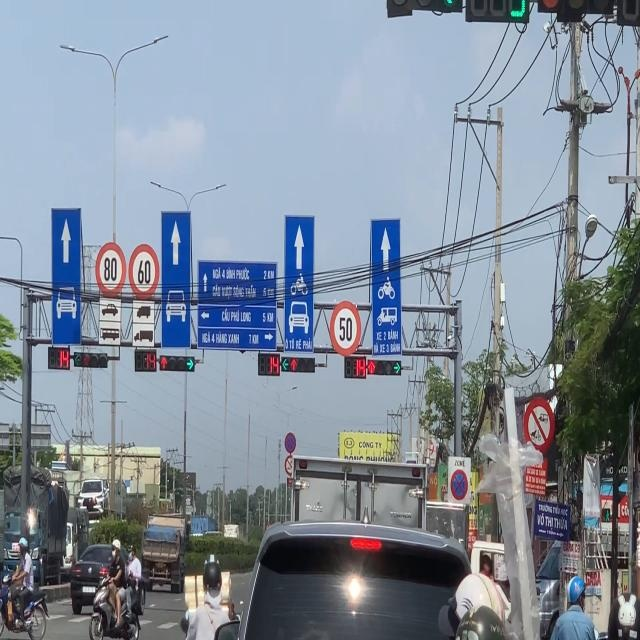bien_cam: (128, 240, 160, 303), (96, 240, 128, 299), (332, 297, 359, 358), (450, 468, 468, 501), (285, 432, 297, 454)
